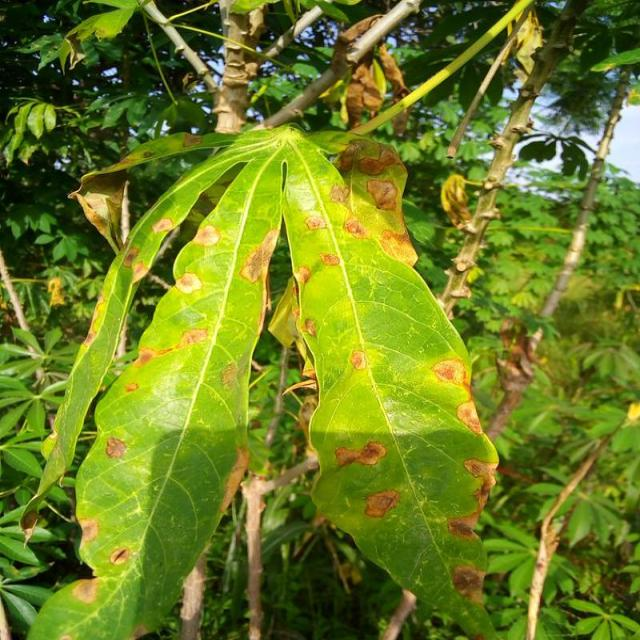cassava leaf: (24, 121, 499, 638), (276, 132, 500, 637)
